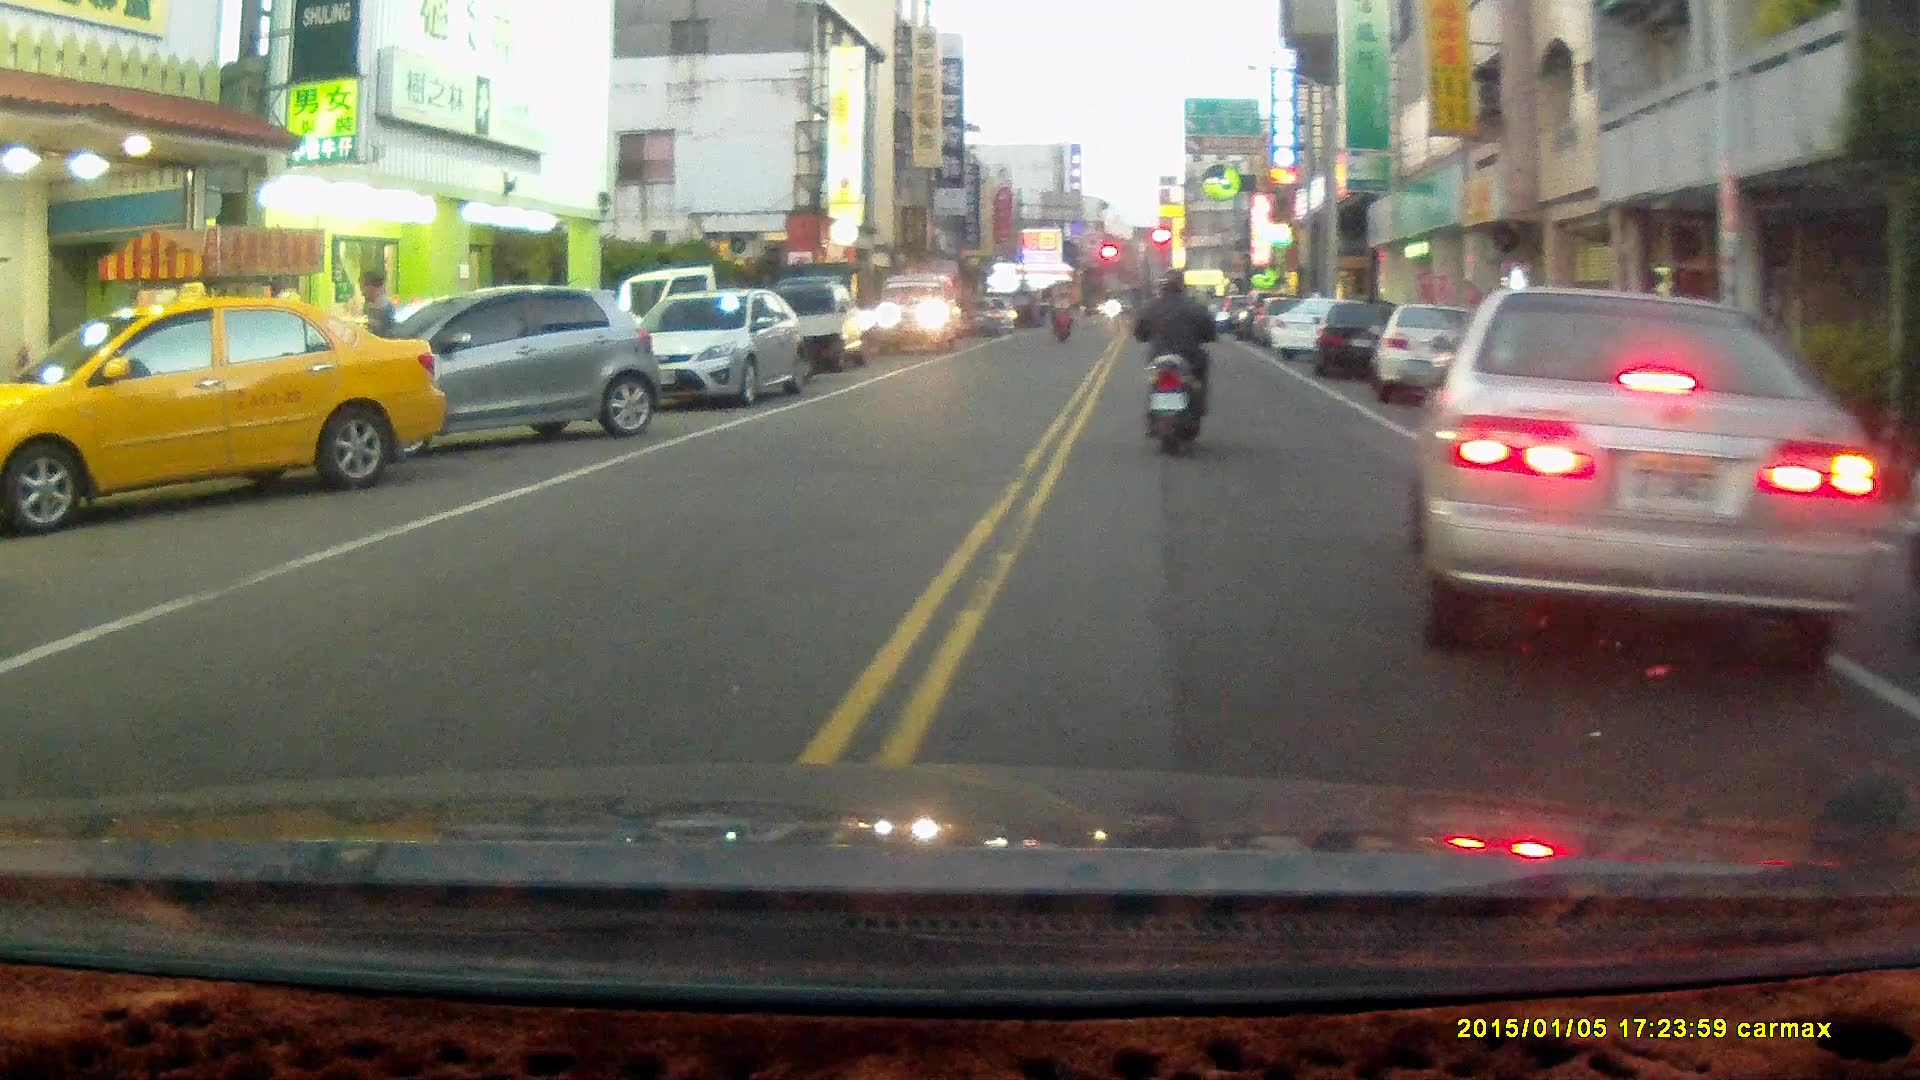pedestrian: (349, 273, 400, 447)
rider: (1123, 267, 1228, 461), (1046, 284, 1075, 343)
vehicle: (1415, 290, 1887, 667), (1, 295, 449, 534), (335, 282, 665, 444), (622, 288, 807, 408), (760, 280, 885, 376), (1380, 302, 1480, 405), (877, 277, 965, 350)
